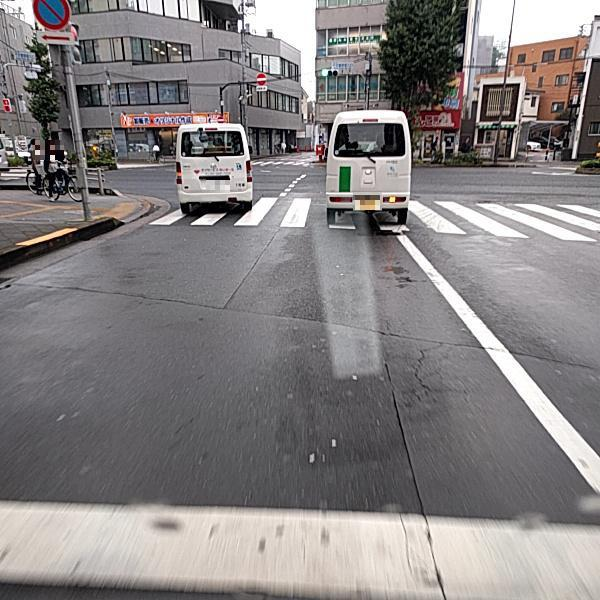D20: (392, 339, 471, 403)
